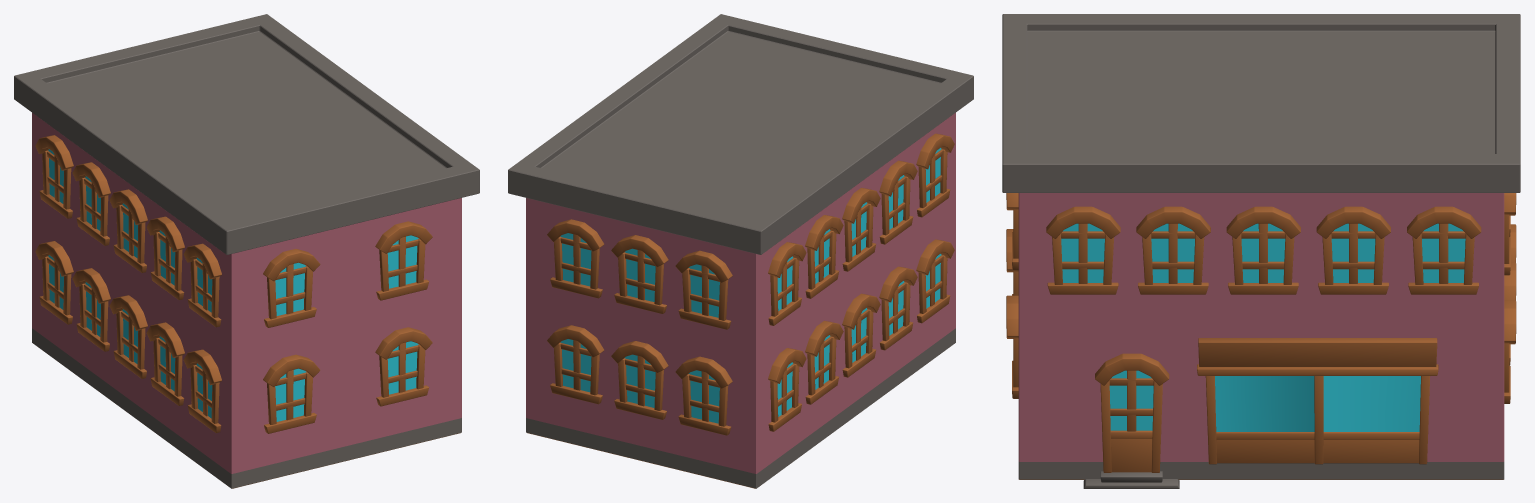
File: Building3.glb
3 renders of one model, left to right at view 1: azimuth 30°, elevation 25°; view 2: azimuth 150°, elevation 25°; view 3: azimuth 270°, elevation 25°, orthographic. The views are drawn at different scales.
Visible parts, largest first — view 1: Building3; view 2: Building3; view 3: Building3.
Part boxes in pixels (<box>): Building3: <box>14,14,479,488</box>; Building3: <box>508,14,973,488</box>; Building3: <box>1002,14,1520,488</box>.
Size of the model in its own units: 4.4 by 4.44 by 6.4.
Materials: 1 (1 with a texture image).
